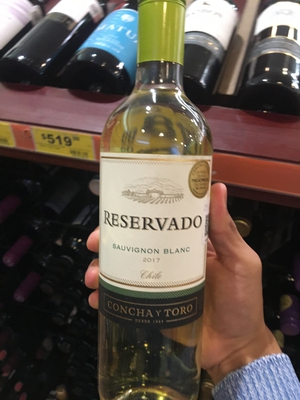reservado sauvignon blanc: (89, 1, 215, 382)
